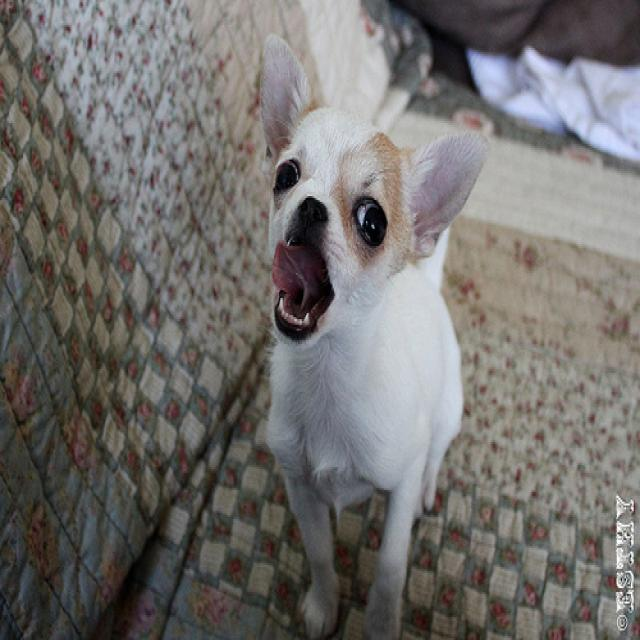dog-chihuahua: (250, 21, 498, 636)
